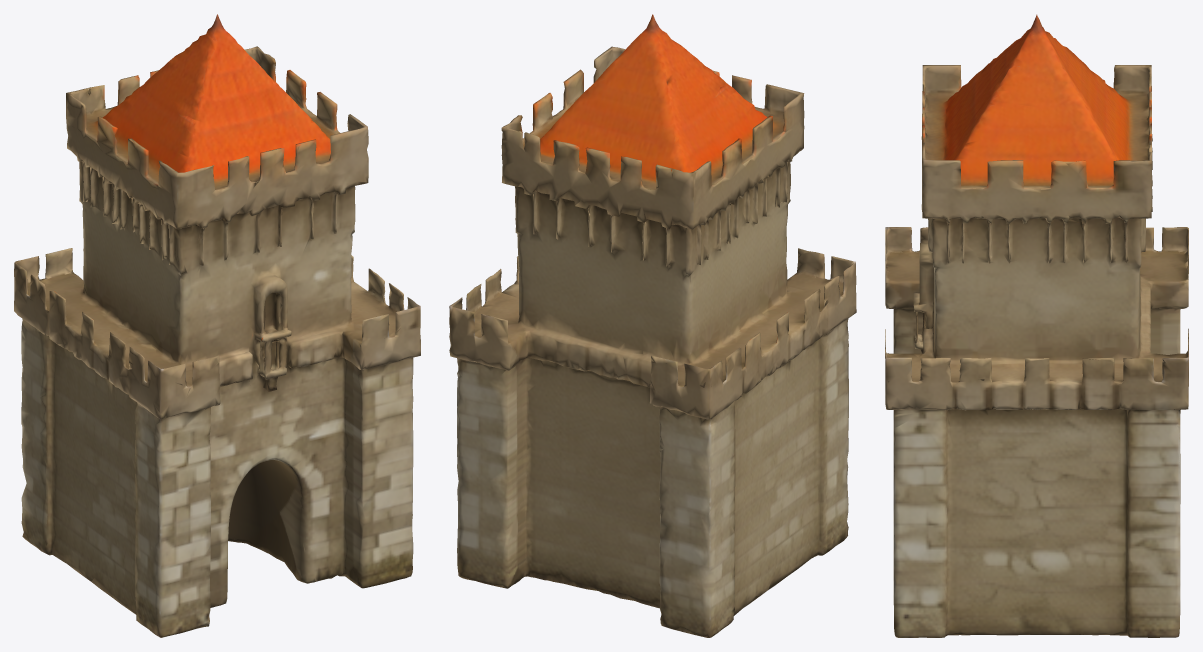
The model's file is base_basic_pbr.fbx.
3 views of the same model, side by side, from view 1: azimuth 30°, elevation 25°; view 2: azimuth 150°, elevation 25°; view 3: azimuth 270°, elevation 25° (orthographic). The views are drawn at different scales.
Parts seen in each view (by area): view 1: model; view 2: model; view 3: model.
Part boxes in pixels (<box>): model: <box>14,14,420,637</box>; model: <box>449,14,856,637</box>; model: <box>885,14,1188,637</box>.
Bounding box in the file's own units: 95.67 × 190 × 93.41.
Materials: 1 (1 with a texture image).
